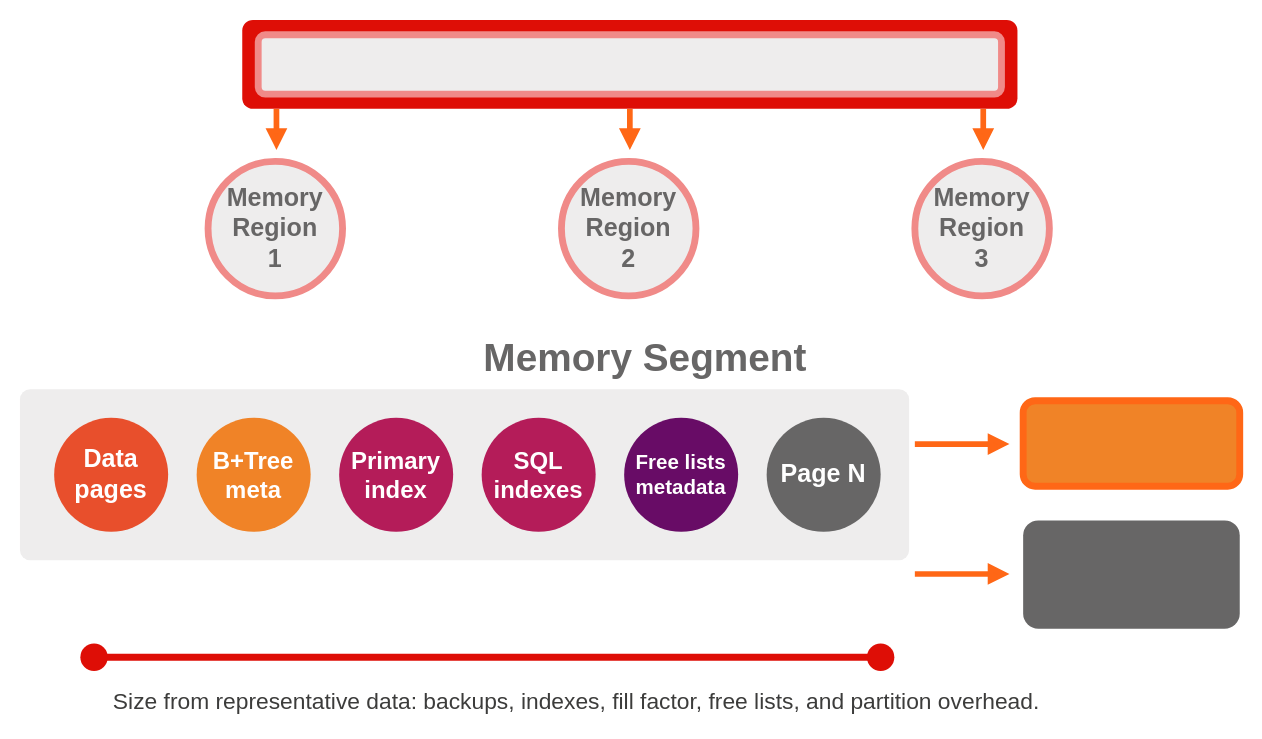
Image size: 1262x739. Some labels were removed from this diagram. The shapes that lost their labels are listed below. From the top down, each one's centre as x and y in pixels, then its label:
At (629,64): "DataRegionConfiguration.maxSize".
At (1131,443): "Checkpoint buffer".
At (1131,574): "Region full: evict, replace, or Ignite OOM".
